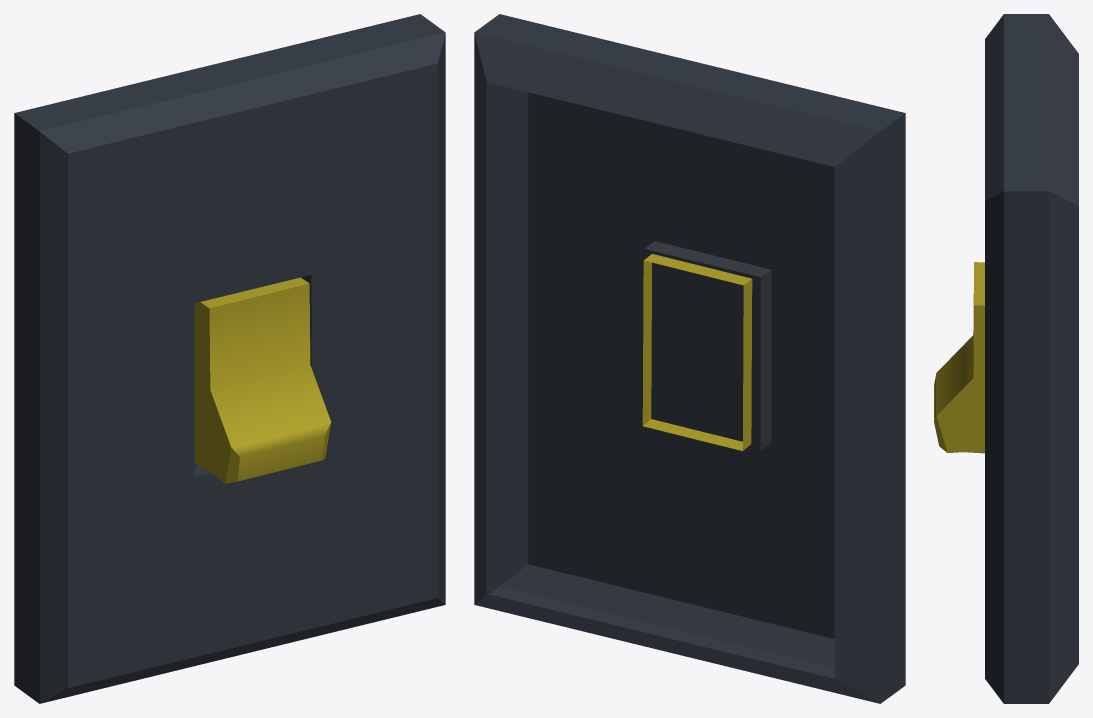
The model's file is SM_ButtonLightOff.fbx.
3 renders of one model, left to right at view 1: azimuth 30°, elevation 25°; view 2: azimuth 150°, elevation 25°; view 3: azimuth 270°, elevation 25°, orthographic. The views are drawn at different scales.
Parts seen in each view (by area): view 1: SM_ButtonLightON; view 2: SM_ButtonLightON; view 3: SM_ButtonLightON.
Boxes of the visible parts, box(x1,y1,x2,y2) form: SM_ButtonLightON: box(14, 14, 445, 703); SM_ButtonLightON: box(474, 14, 905, 703); SM_ButtonLightON: box(934, 14, 1078, 703).
Bounding box in the file's own units: 19.86 × 26.75 × 6.86.
